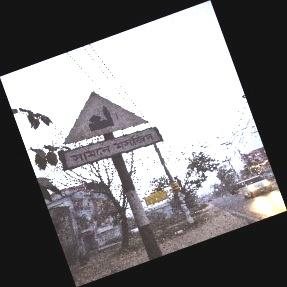Mosque in front: (59, 92, 162, 171)
